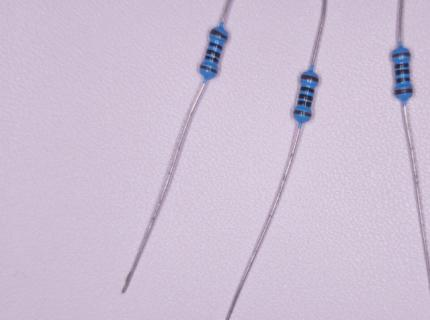Black band: (206, 48, 221, 58), (204, 54, 219, 64), (209, 42, 224, 51), (297, 100, 312, 108), (396, 76, 411, 84), (300, 86, 314, 94), (395, 69, 410, 76), (299, 94, 313, 101), (394, 63, 409, 69)
Brown band: (210, 29, 228, 41), (199, 64, 218, 75), (293, 110, 312, 118), (301, 75, 319, 83), (392, 52, 411, 59), (395, 88, 413, 94)
